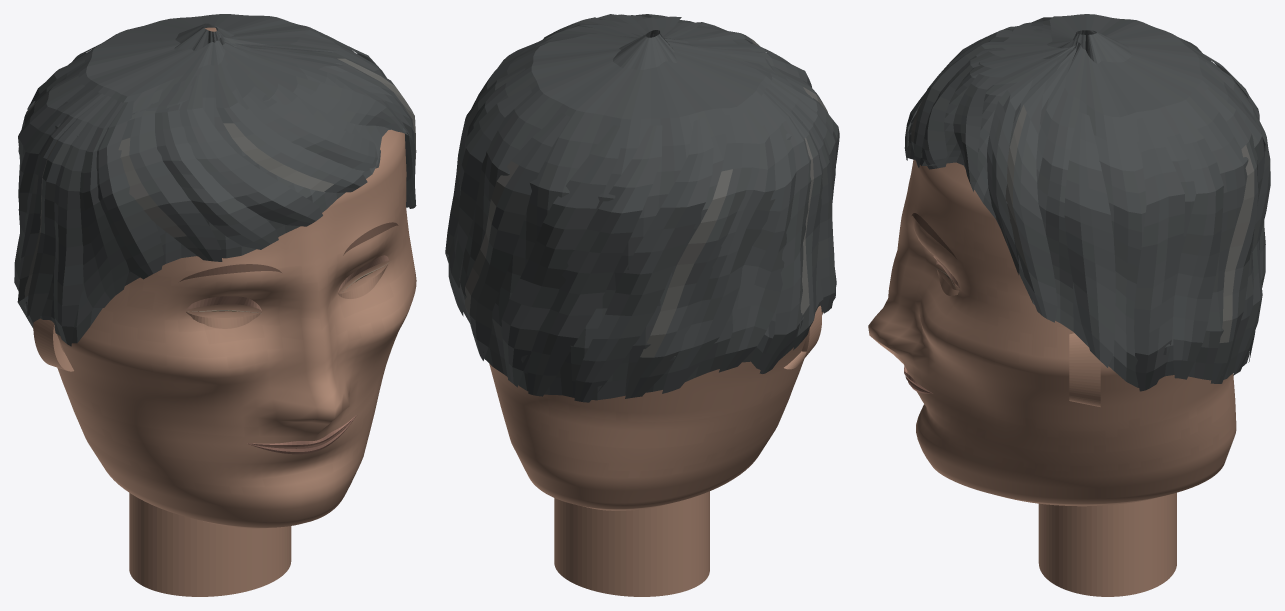
Rendered from lea.glb.
The picture shows the model from 3 angles, left to right: view 1: azimuth 30°, elevation 25°; view 2: azimuth 150°, elevation 25°; view 3: azimuth 270°, elevation 25°; orthographic projection. The views are drawn at different scales.
Parts seen in each view (by area): view 1: Viso, Pettinatura, Collo, Ciocca.021, Ciocca, Ciocca.022, Ciocca.001, Ciocca.018, Ciocca.020, Ciocca.019, Ciocca.002, Ciocca.017 (+12 smaller); view 2: Pettinatura, Viso, Collo, Ciocca.012, Ciocca.011, Ciocca.010, Ciocca.013, Ciocca.014, Ciocca.015, Ciocca.009, Ciocca.016, Ciocca.008 (+9 smaller); view 3: Viso, Pettinatura, Collo, Ciocca.007, Ciocca.006, Ciocca.008, Ciocca.005, Ciocca.009, Ciocca.004, Ciocca.003, Ciocca.010, Ciocca.002 (+4 smaller).
Part boxes in pixels (x1,y1,x2,y2): Viso: (57, 27, 416, 528); Pettinatura: (24, 14, 415, 343); Collo: (129, 493, 291, 596); Ciocca.021: (118, 89, 222, 261); Ciocca: (179, 74, 322, 226); Ciocca.022: (155, 80, 278, 249); Ciocca.001: (214, 73, 367, 192); Ciocca.018: (53, 97, 117, 346); Ciocca.020: (96, 100, 163, 279); Ciocca.019: (79, 101, 128, 307); Ciocca.002: (226, 63, 380, 171); Ciocca.017: (24, 94, 111, 327); Pettinatura: (448, 15, 835, 400); Viso: (489, 311, 823, 510); Collo: (554, 491, 709, 596); Ciocca.012: (574, 118, 713, 402); Ciocca.011: (527, 125, 662, 396); Ciocca.010: (501, 125, 625, 387); Ciocca.013: (625, 114, 753, 398); Ciocca.014: (662, 108, 775, 393); Ciocca.015: (719, 98, 796, 372); Ciocca.009: (465, 112, 569, 360); Ciocca.016: (759, 91, 811, 373); Ciocca.008: (448, 86, 531, 316); Viso: (868, 159, 1236, 506); Pettinatura: (907, 14, 1264, 387); Collo: (1038, 492, 1176, 596); Ciocca.007: (1134, 117, 1184, 391); Ciocca.006: (1064, 112, 1115, 367); Ciocca.008: (1171, 110, 1223, 379); Ciocca.005: (1005, 57, 1070, 322); Ciocca.009: (1204, 86, 1258, 383); Ciocca.004: (987, 49, 1072, 274); Ciocca.003: (953, 50, 1062, 191); Ciocca.010: (1204, 59, 1270, 375); Ciocca.002: (922, 47, 1044, 169).
Bounding box in the file's own units: 0.4409 × 0.629 × 0.4368.
